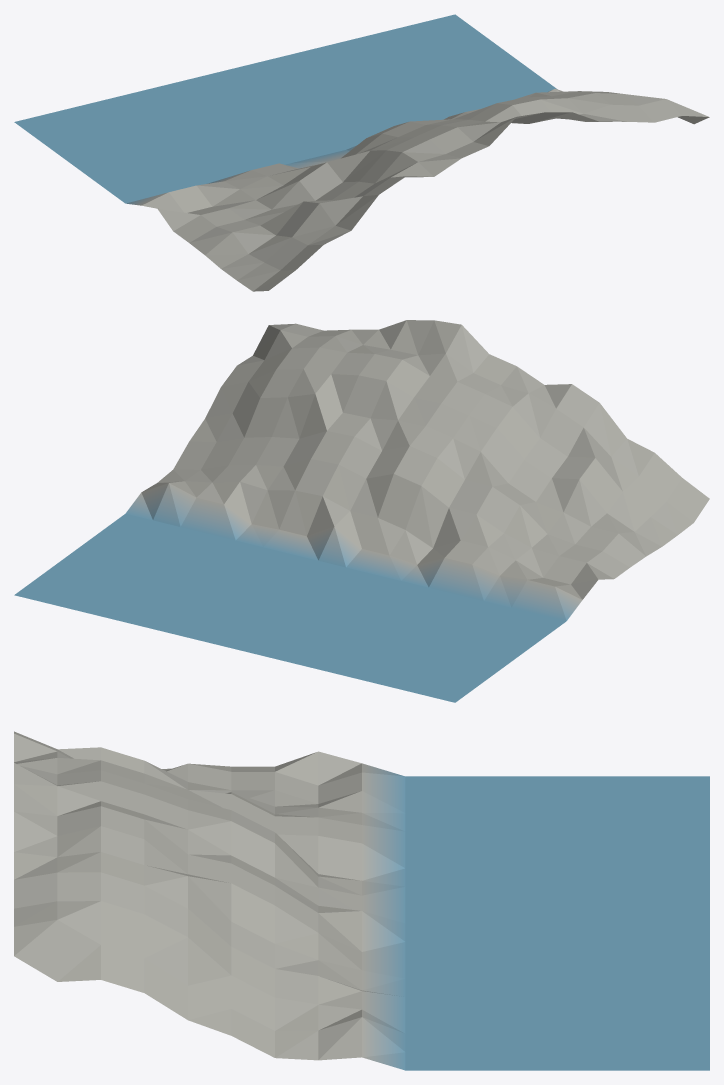
3 renders of one model, top to bottom at view 1: azimuth 30°, elevation 25°; view 2: azimuth 150°, elevation 25°; view 3: azimuth 270°, elevation 25°, orthographic. The views are drawn at different scales.
Size of the model in its own units: 32 by 9.09 by 32.
